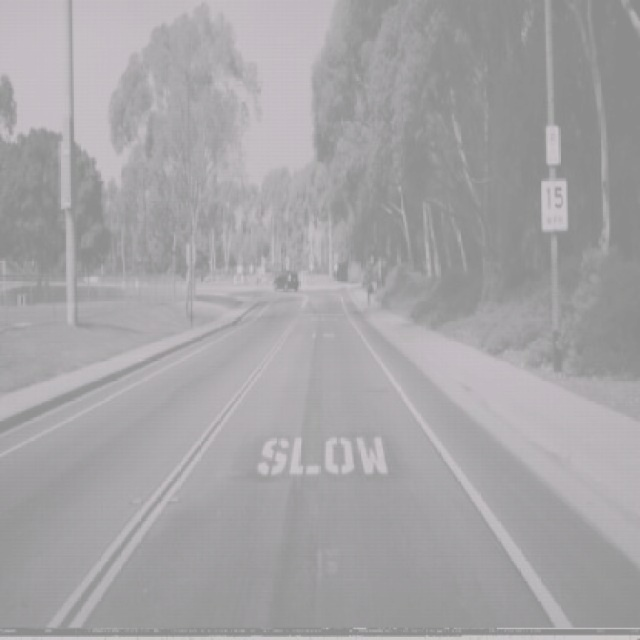speedLimit15: (540, 177, 568, 232)
